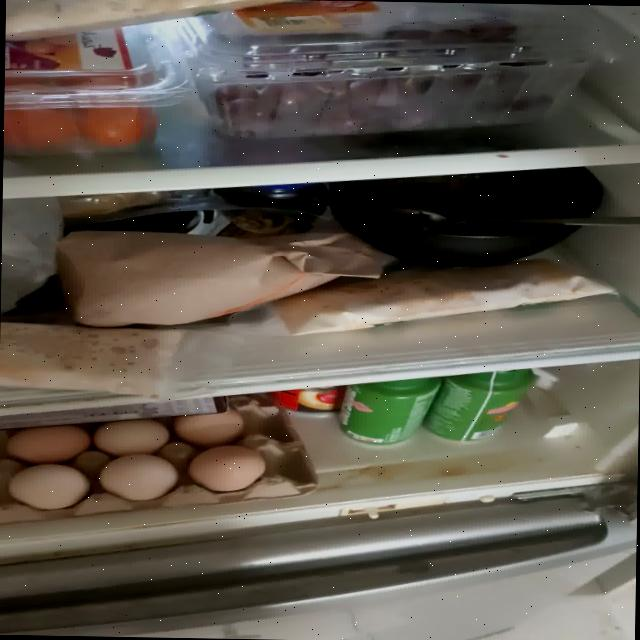egg: (0, 405, 322, 530)
grape: (207, 14, 549, 142)
tempeh: (276, 254, 618, 340), (0, 320, 185, 399)
